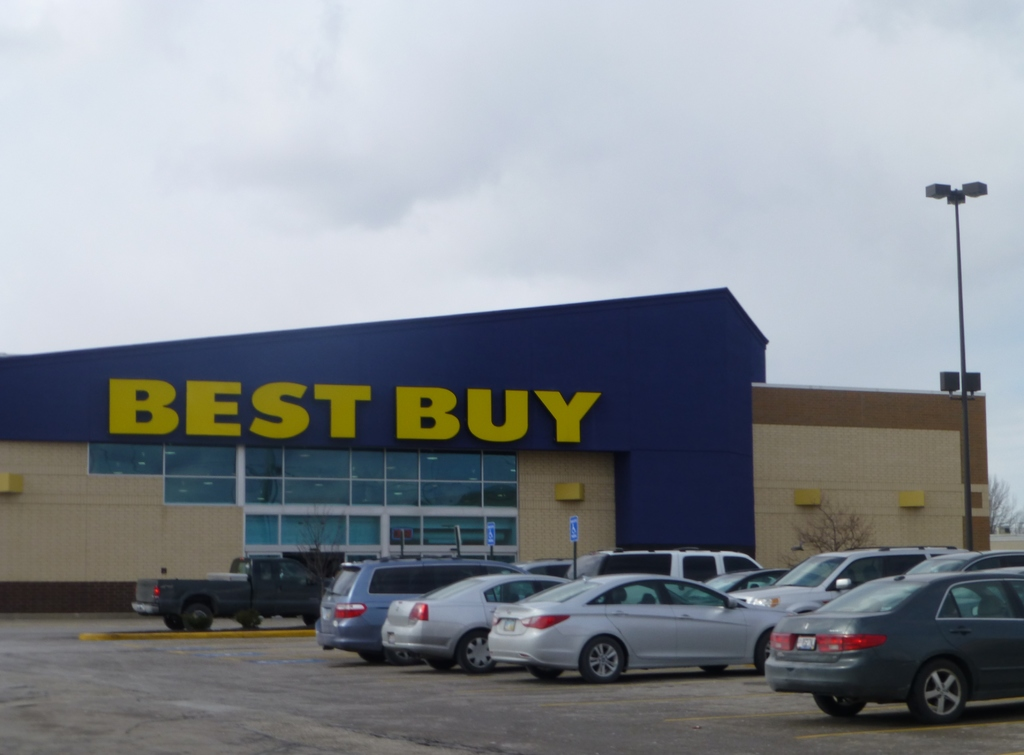Car: (742, 553, 1024, 733), (487, 566, 798, 679), (317, 552, 508, 666), (377, 569, 572, 676), (730, 543, 936, 620), (579, 536, 755, 584), (705, 562, 789, 604)
